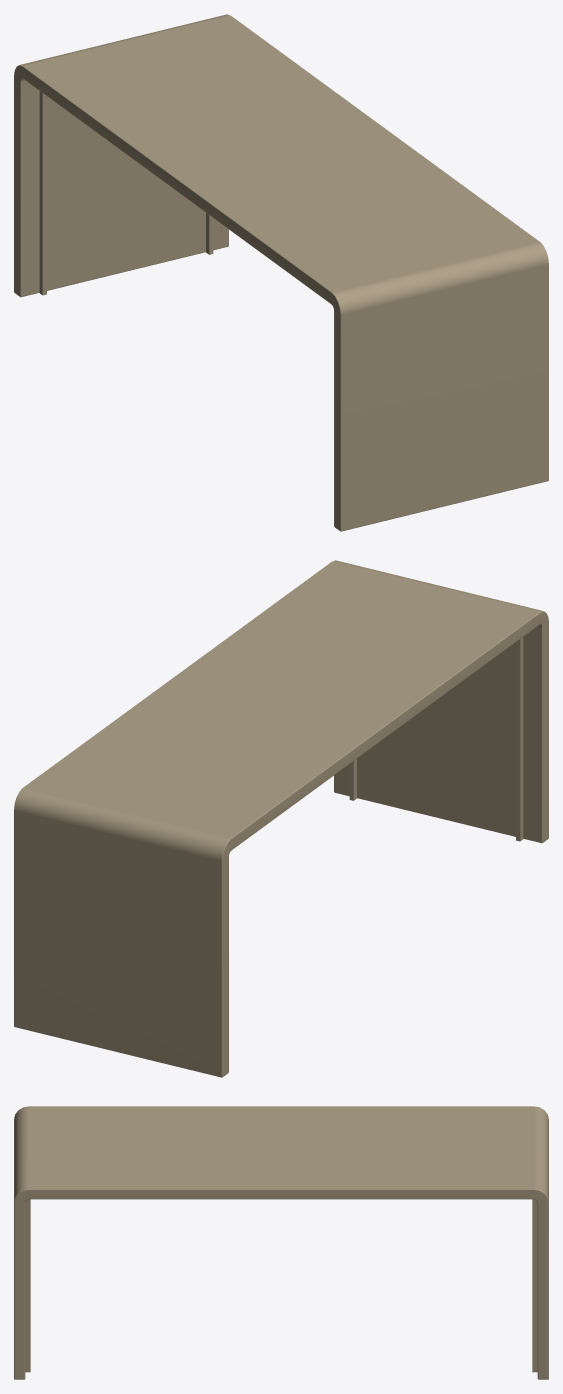
The model's file is office_desk.fbx.
3 renders of one model, top to bottom at view 1: azimuth 30°, elevation 25°; view 2: azimuth 150°, elevation 25°; view 3: azimuth 270°, elevation 25°, orthographic. The views are drawn at different scales.
Parts seen in each view (by area): view 1: office_desk; view 2: office_desk; view 3: office_desk.
Part boxes in pixels (x1,y1,x2,y2): office_desk: (14,14,548,531); office_desk: (14,560,548,1077); office_desk: (14,1106,548,1379).
Bounding box in the file's own units: 70 × 74.67 × 190.
